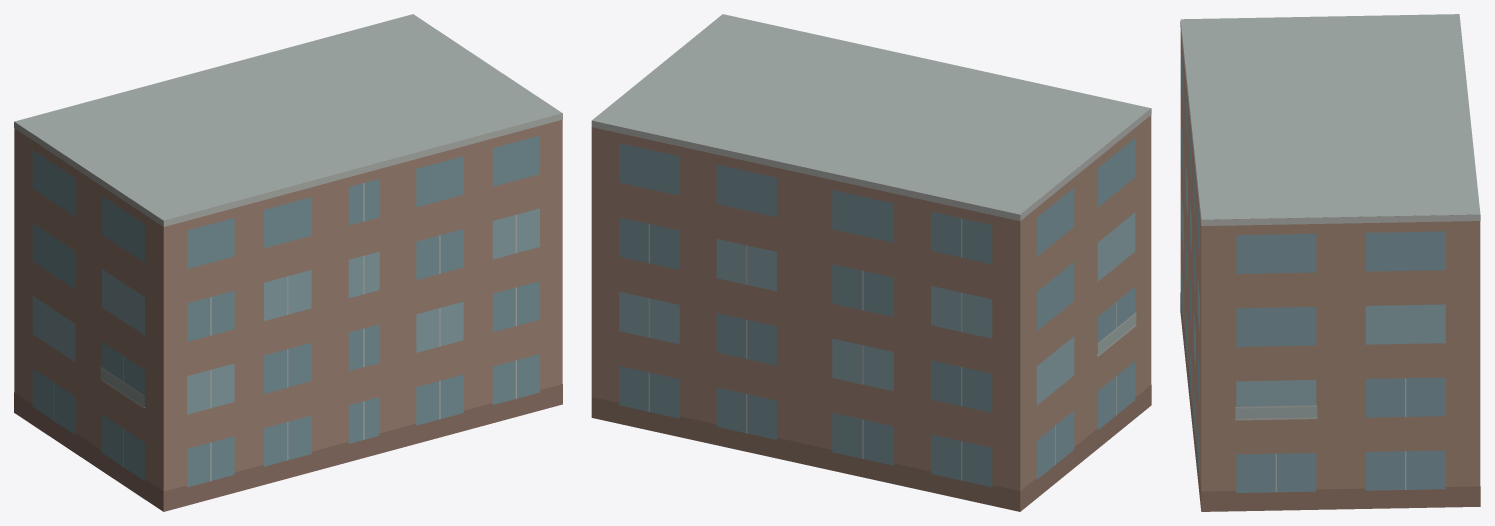
The model's file is survey-upis-32740576.glb.
3 views of the same model, side by side, from view 1: azimuth 30°, elevation 25°; view 2: azimuth 150°, elevation 25°; view 3: azimuth 270°, elevation 25° (orthographic). The views are drawn at different scales.
Parts seen in each view (by area): view 1: survey-upis-32740576.tmp; view 2: survey-upis-32740576.tmp; view 3: survey-upis-32740576.tmp.
Part boxes in pixels (left/top/right/bottom): survey-upis-32740576.tmp: left=14, top=14, right=562, bottom=511; survey-upis-32740576.tmp: left=591, top=14, right=1151, bottom=511; survey-upis-32740576.tmp: left=1180, top=14, right=1480, bottom=511.
Bounding box in the file's own units: 16.78 × 11.11 × 10.35.
